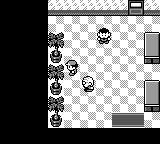main: (66, 61, 78, 76)
no-caminable: (0, 0, 159, 143), (48, 32, 63, 128), (48, 0, 128, 15), (145, 32, 160, 63), (145, 81, 160, 111), (144, 1, 160, 16)
npc: (96, 29, 112, 44), (82, 76, 94, 92)
puerta: (109, 113, 147, 128), (128, 0, 144, 14)
